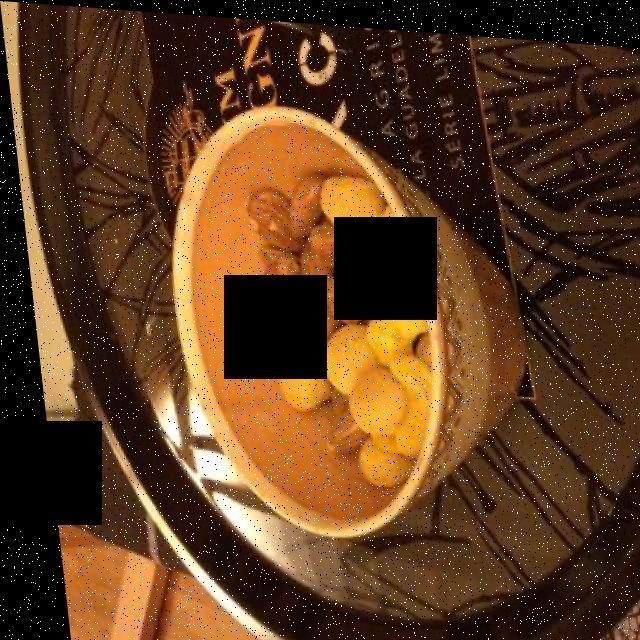mixed-nuts: (208, 161, 421, 479)
